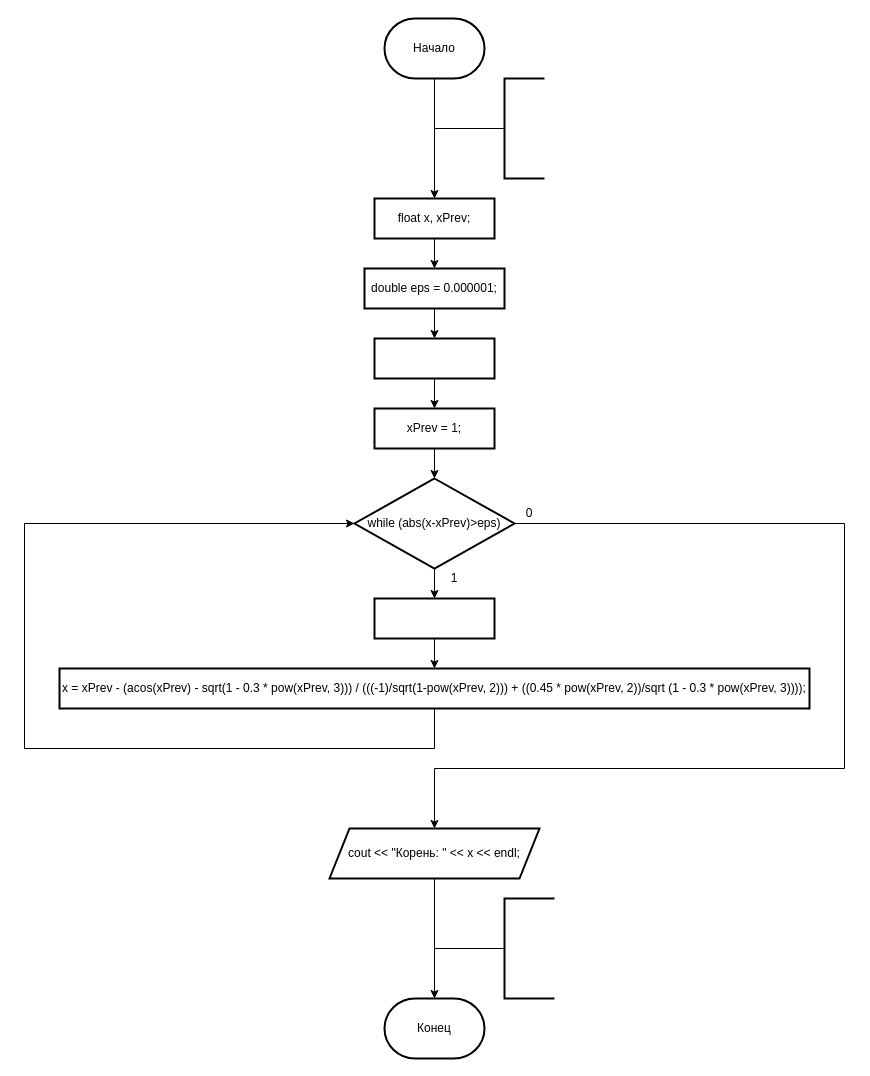
Some shapes in this 870 by 1076 pixel diagram are drawn without their labels. Each missing label, with the box of its shape:
#include <iostream> #include <cmath> using namespace std; int main(){: (503, 77, 545, 179)
return 0; }: (503, 897, 555, 999)
x = 0;: (373, 337, 495, 379)
xPrev = x;: (373, 597, 495, 639)
